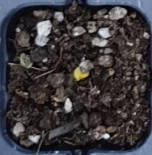pepper seed: (26, 24, 116, 105)
